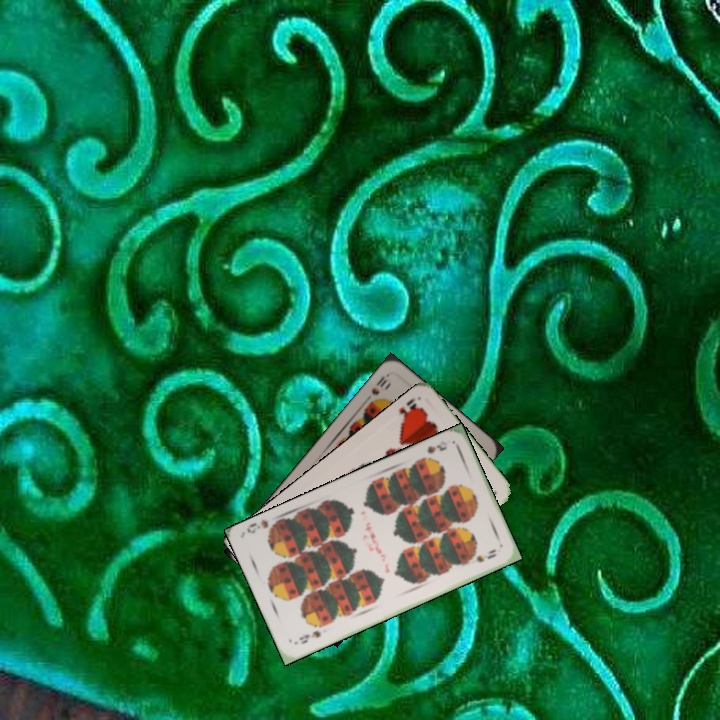HO: (395, 393, 424, 423)
S10: (365, 370, 392, 407)
S9: (416, 440, 450, 464), (295, 626, 323, 647)
